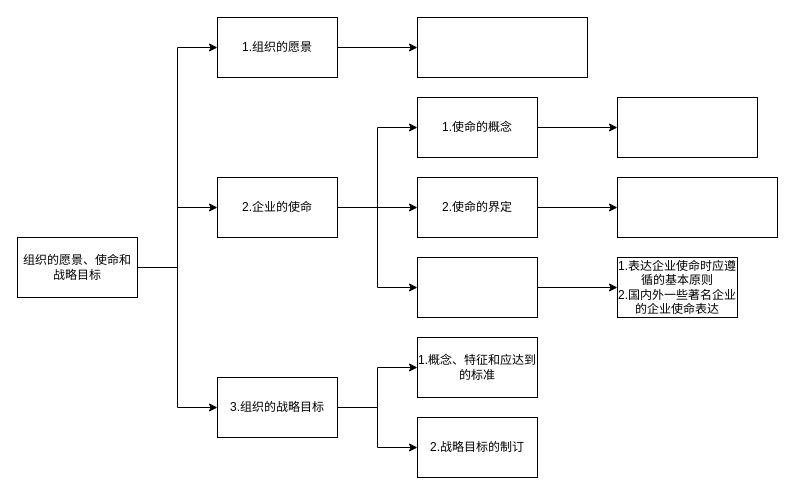
The diagram is 795 pixels wide and 495 high, and some of its shapes have lost their labels. The shapes that lost their labels are listed below. From the top down, each one's centre as x and y in pixels, then its label:
point 502,47: 1. 企业愿景的概念 2. 企业愿景的表述构成要素 3. 企业愿景的作用
point 687,127: 1.使命的概念（提出者、使命陈述、概念） 2.企业使命与愿景的区别
point 697,207: 1.确定企业的经营领域 2.注重企业所承担的社会责任 3.建设优秀企业文化，促进社会文化的进步
point 477,287: 3.使命表达
